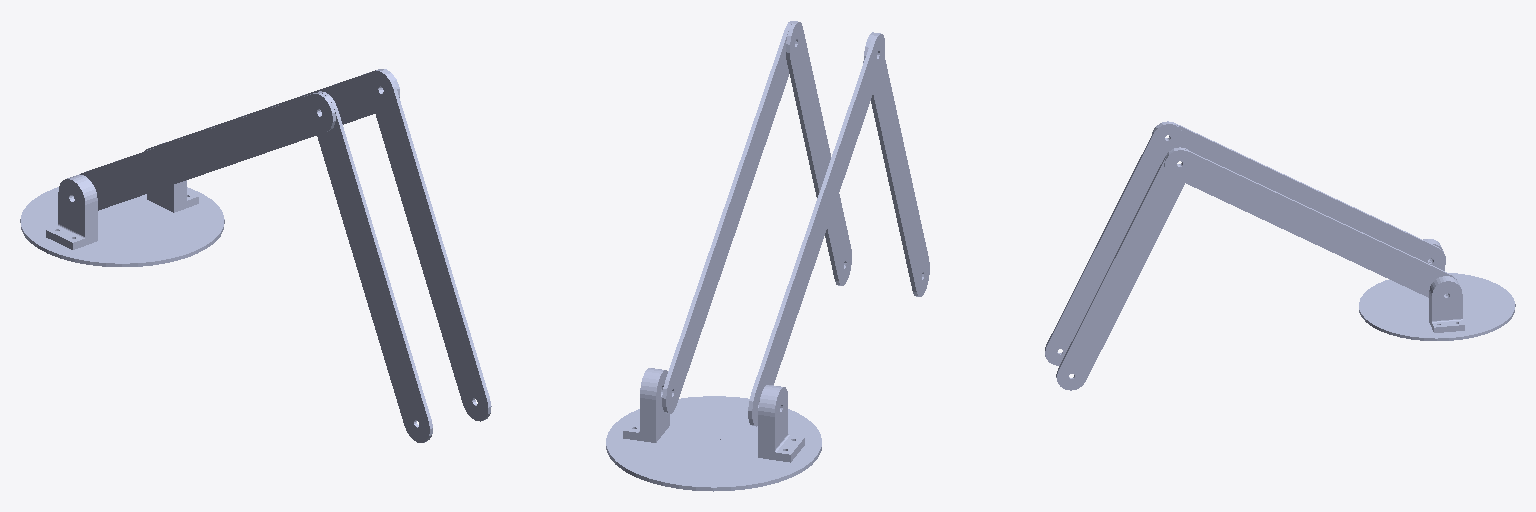
The robot description file, URDF, robot "Assem1":
<robot name="Assem1">
  <link name="base_link">
    <inertial>
      <origin
        xyz="0.0425064242550698 0.0422545931325721 0.0792046921410634"
        rpy="0 0 0" />
      <mass value="0.0408407044966673" />
      <inertia
        ixx="0"
        ixy="0"
        ixz="0"
        iyy="0"
        iyz="0"
        izz="0" />
    </inertial>
    <visual>
      <origin
        xyz="0 0 0"
        rpy="0 0 0" />
      <geometry>
        <mesh
          filename="package://Assem1/meshes/base_link.STL" />
      </geometry>
      <material
        name="">
        <color
          rgba="0.792156862745098 0.819607843137255 0.933333333333333 1" />
      </material>
    </visual>
    <collision>
      <origin
        xyz="0 0 0"
        rpy="0 0 0" />
      <geometry>
        <mesh
          filename="package://Assem1/meshes/base_link.STL" />
      </geometry>
    </collision>
  </link>
  <link
    name="shoulder+base">
    <inertial>
      <origin
        xyz="0 3.46944695195361E-17 -0.0168250043121133"
        rpy="0 0 0" />
      <mass
        value="0.406378642238205" />
      <inertia
        ixx="0.00103394294373478"
        ixy="2.15485181781494E-18"
        ixz="-1.3931960008014E-19"
        iyy="0.000124413721231402"
        iyz="6.95944646747449E-19"
        izz="0.00090952922250338" />
    </inertial>
    <visual>
      <origin
        xyz="0 0 0"
        rpy="0 0 0" />
      <geometry>
        <mesh
          filename="package://Assem1/meshes/shoulder+base.STL" />
      </geometry>
      <material
        name="">
        <color
          rgba="0.792156862745098 0.819607843137255 0.933333333333333 1" />
      </material>
    </visual>
    <collision>
      <origin
        xyz="0 0 0"
        rpy="0 0 0" />
      <geometry>
        <mesh
          filename="package://Assem1/meshes/shoulder+base.STL" />
      </geometry>
    </collision>
  </link>
  <joint
    name="shoulder+rotation"
    type="revolute">
    <origin
      xyz="0.042506 -0.079205 0.044562"
      rpy="3.1416 -3.4094E-15 1.7667" />
    <parent
      link="base_link" />
    <child
      link="shoulder+base" />
    <axis
      xyz="0 0 -1" />
    <limit
      effort="0"
      velocity="0" />
  </joint>
  <link
    name="link1">
    <inertial>
      <origin
        xyz="0.250000000000001 1.07656938919121E-14 1.07552855510562E-15"
        rpy="0 0 0" />
      <mass
        value="0.268064157758141" />
      <inertia
        ixx="0.000738851834821029"
        ixy="1.38048991182554E-18"
        ixz="0"
        iyy="-2.21174640325637E-21"
        iyz="6.53958316839469E-19"
        izz="0.000738851834821029" />
    </inertial>
    <visual>
      <origin
        xyz="0 0 0"
        rpy="0 0 0" />
      <geometry>
        <mesh
          filename="package://Assem1/meshes/link1.STL" />
      </geometry>
      <material
        name="">
        <color
          rgba="0.792156862745098 0.819607843137255 0.933333333333333 1" />
      </material>
    </visual>
    <collision>
      <origin
        xyz="0 0 0"
        rpy="0 0 0" />
      <geometry>
        <mesh
          filename="package://Assem1/meshes/link1.STL" />
      </geometry>
    </collision>
  </link>
  <joint
    name="shoulder+rotation"
    type="revolute">
    <origin
      xyz="0 0 -0.06"
      rpy="8.0949E-16 0.54101 -3.1416" />
    <parent
      link="shoulder+base" />
    <child
      link="link1" />
    <axis
      xyz="0 -1 0" />
    <limit
      effort="0"
      velocity="0" />
  </joint>
  <link
    name="link2">
    <inertial>
      <origin
        xyz="0.199999999999999 -1.05332409461312E-14 1.11022302462516E-16"
        rpy="0 0 0" />
      <mass
        value="0.218064157758141" />
      <inertia
        ixx="0.000492007255941919"
        ixy="1.35761041440465E-19"
        ixz="-1.35525271560688E-20"
        iyy="2.20038618187538E-22"
        iyz="6.09815981878495E-19"
        izz="0.000492007255941919" />
    </inertial>
    <visual>
      <origin
        xyz="0 0 0"
        rpy="0 0 0" />
      <geometry>
        <mesh
          filename="package://Assem1/meshes/link2.STL" />
      </geometry>
      <material
        name="">
        <color
          rgba="0.792156862745098 0.819607843137255 0.933333333333333 1" />
      </material>
    </visual>
    <collision>
      <origin
        xyz="0 0 0"
        rpy="0 0 0" />
      <geometry>
        <mesh
          filename="package://Assem1/meshes/link2.STL" />
      </geometry>
    </collision>
  </link>
  <joint
    name="elbow"
    type="revolute">
    <origin
      xyz="0.5 0 0"
      rpy="1.3367E-14 -1.4814 3.1416" />
    <parent
      link="link1" />
    <child
      link="link2" />
    <axis
      xyz="0 1 0" />
    <limit
      effort="0"
      velocity="0" />
  </joint>
</robot>

--- Facts derived from the render (not from the file) ---
3 views of the same robot in one strip: view 1: azimuth 30°, elevation 25°; view 2: azimuth 150°, elevation 25°; view 3: azimuth 270°, elevation 25° (orthographic).
Robot: Assem1 — 4 links, 3 joints (3 revolute); root link base_link; default pose: all joints at 0.
Links seen in each view (by area): view 1: link2, shoulder+base, link1; view 2: shoulder+base, link1, link2; view 3: link1, link2, shoulder+base.
Boxes of the visible links, bbox=[...] form: link2: bbox=[316, 70, 491, 442]; shoulder+base: bbox=[20, 142, 224, 266]; link1: bbox=[80, 69, 399, 210]; shoulder+base: bbox=[606, 368, 821, 491]; link1: bbox=[662, 21, 884, 426]; link2: bbox=[786, 21, 929, 296]; link1: bbox=[1152, 121, 1456, 297]; link2: bbox=[1045, 123, 1187, 390]; shoulder+base: bbox=[1359, 239, 1515, 340].
Bounding box of the posed robot: 0.296 × 0.7508 × 0.4098 m (x, y, z).
4 mesh visuals loaded from 4 distinct referenced files (4 binary STL).
